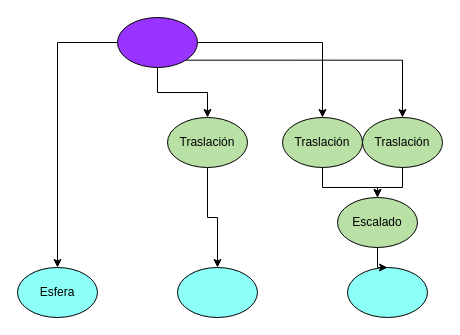
Image size: 460x335. Some labels were removed from this diagram. The shapes that lost their labels are listed below. From the top down, each one's box as (x1, y1, x2, y2) in pixels, then its label:
(116, 16, 198, 68): Cabeza
(176, 266, 258, 318): Tetraedro
(346, 266, 428, 318): Cubo
